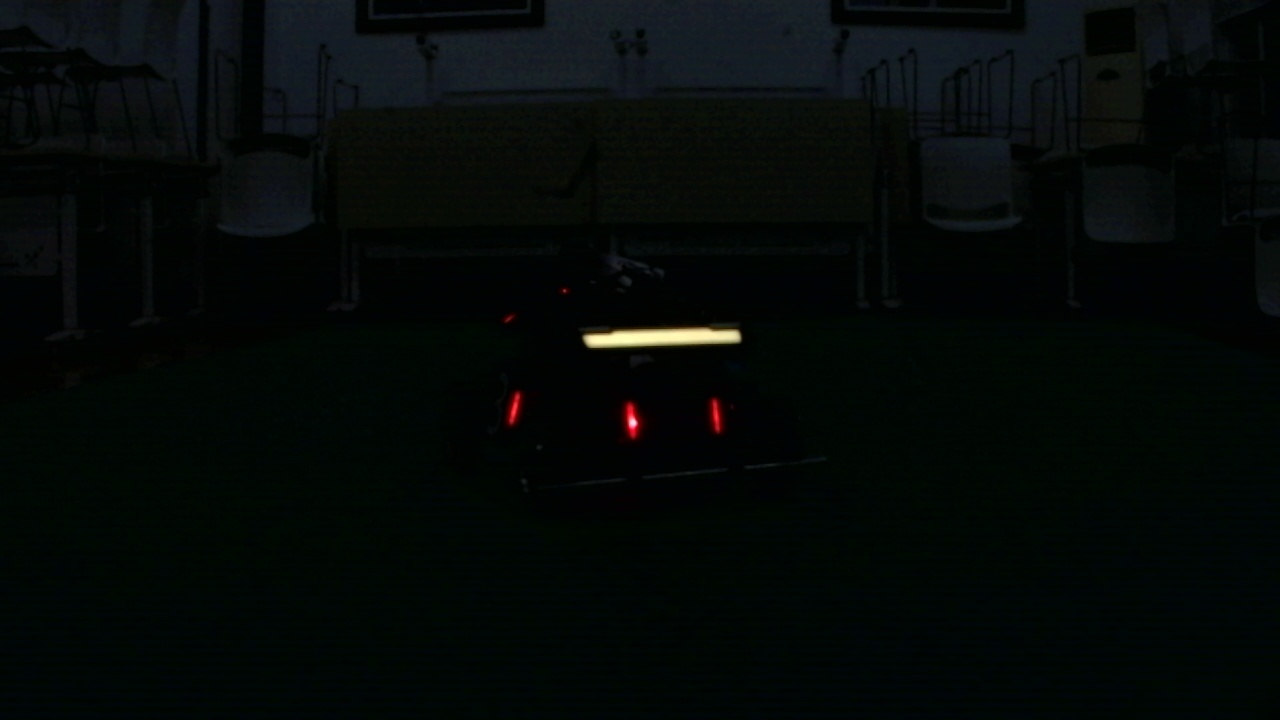lamp: (621, 394, 641, 442), (504, 386, 524, 430), (709, 395, 722, 434)
pair1: (622, 398, 724, 434)
